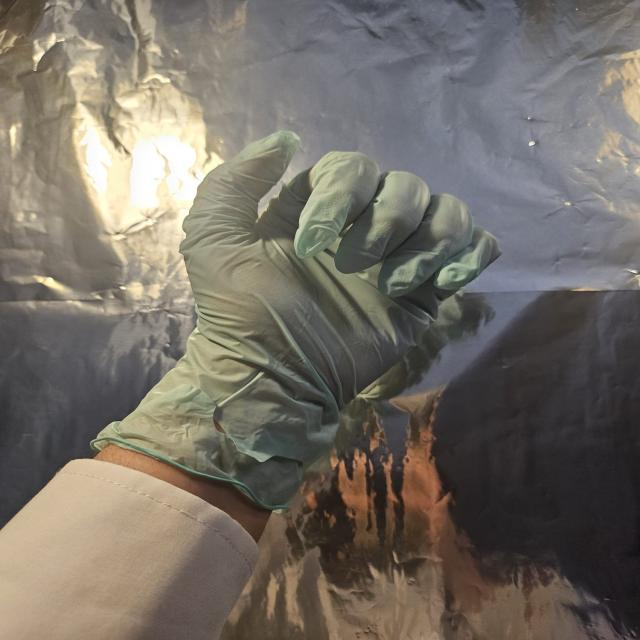gloves_damaged: (92, 128, 504, 512)
